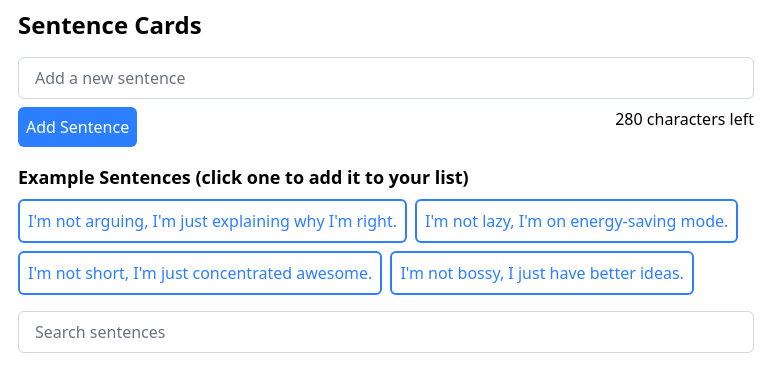
Test case: SentenceCards › shows remaining character count
Expected: the text "280 characters left" is shown, x1=615 y1=108 x2=754 y2=130
Type "Hello" into the field labelled "Add a new sentence" at (386, 78), box x1=18 y1=57 x2=754 y2=99
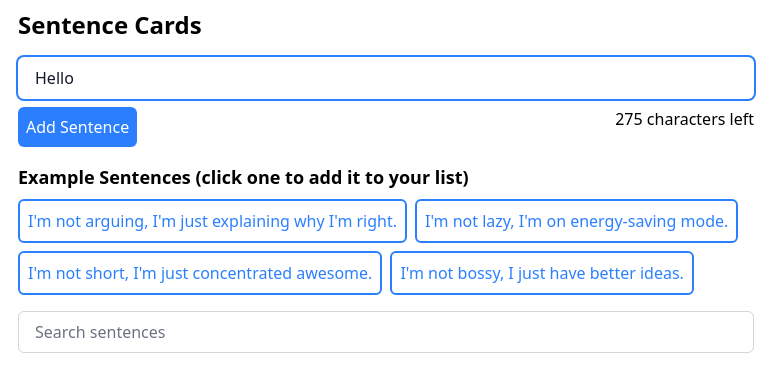
Expected: the text "275 characters left" is shown, x1=615 y1=108 x2=754 y2=130
